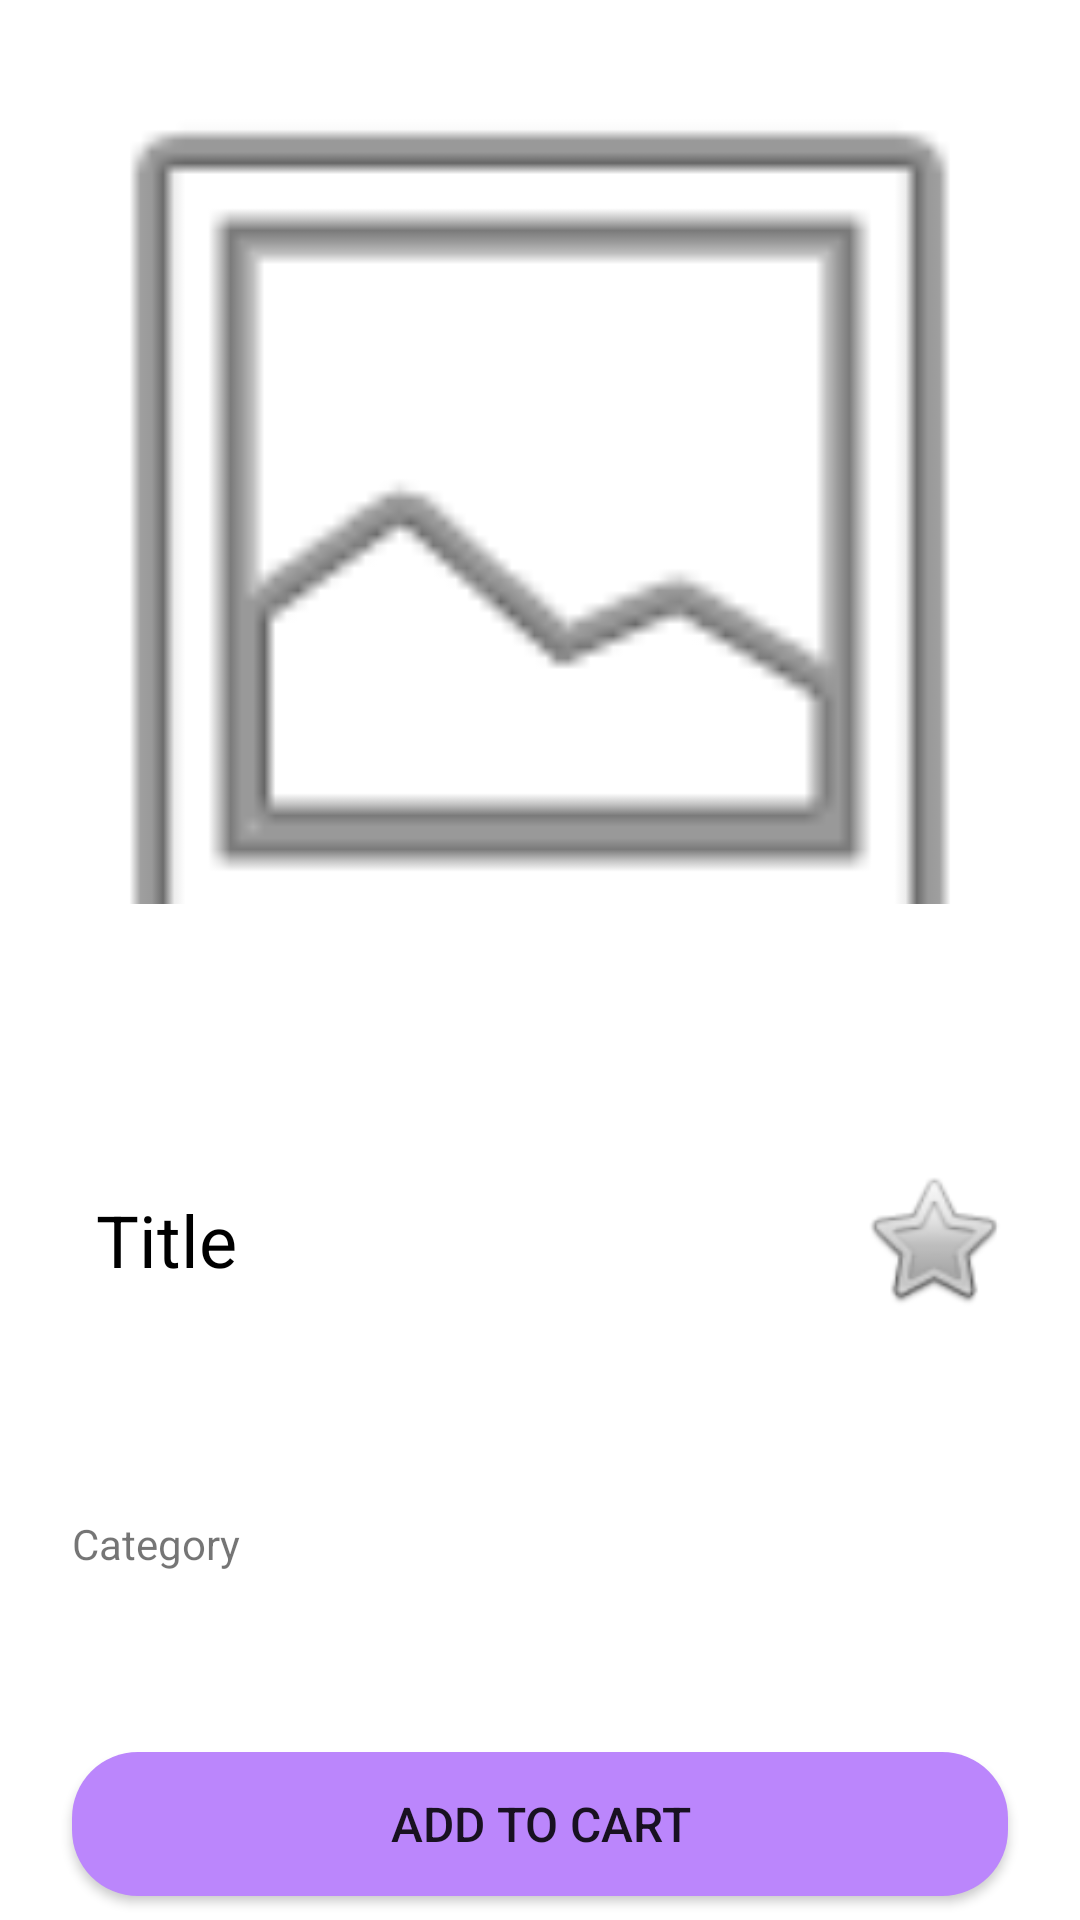

Icons on this 1080px×1920px Android screen, each with the point to tap as point (x, y):
star off: point (934, 1240)
